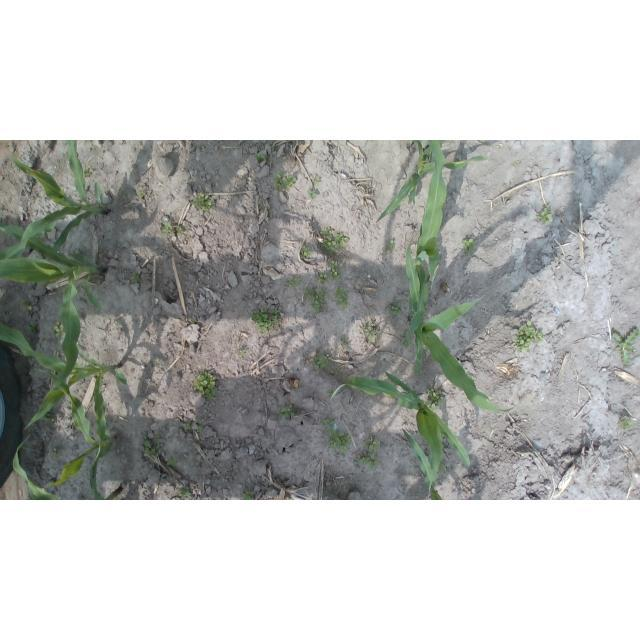Maize: (405, 239, 513, 414), (1, 222, 106, 392), (329, 371, 471, 467), (1, 322, 128, 429), (0, 141, 108, 260), (13, 368, 112, 488), (377, 141, 487, 222), (404, 140, 448, 341), (13, 436, 123, 501), (401, 428, 444, 501)
Weeds: (612, 328, 640, 365), (515, 322, 544, 353), (319, 230, 350, 255), (248, 308, 280, 332), (193, 372, 216, 401), (354, 452, 380, 471), (329, 432, 352, 453), (424, 389, 444, 412), (272, 172, 297, 188), (192, 193, 214, 211), (312, 352, 331, 371), (144, 436, 161, 457), (312, 288, 326, 313), (335, 286, 349, 309), (276, 405, 297, 420), (536, 205, 552, 224), (328, 260, 342, 280), (320, 419, 336, 435), (362, 325, 376, 343), (364, 439, 380, 454), (619, 415, 635, 429), (387, 300, 401, 316), (400, 332, 412, 349), (53, 324, 66, 338), (463, 239, 475, 254), (300, 245, 312, 259), (160, 221, 172, 235), (316, 272, 328, 284), (168, 457, 181, 467), (289, 276, 300, 287), (194, 420, 204, 432), (130, 271, 140, 283), (438, 460, 447, 473), (28, 323, 37, 335), (180, 487, 190, 497), (23, 300, 33, 310), (243, 491, 254, 500), (42, 413, 53, 422), (255, 153, 267, 161), (182, 423, 192, 432), (302, 288, 312, 297), (307, 191, 317, 200), (50, 447, 58, 458), (386, 239, 394, 249), (312, 175, 320, 185), (83, 169, 93, 176), (446, 444, 454, 452), (176, 225, 184, 233), (328, 391, 337, 397), (236, 349, 245, 355), (511, 163, 520, 168), (88, 140, 95, 146), (138, 191, 145, 197), (440, 433, 445, 440), (342, 340, 349, 345), (153, 360, 160, 365), (191, 319, 197, 324), (268, 484, 273, 489)
